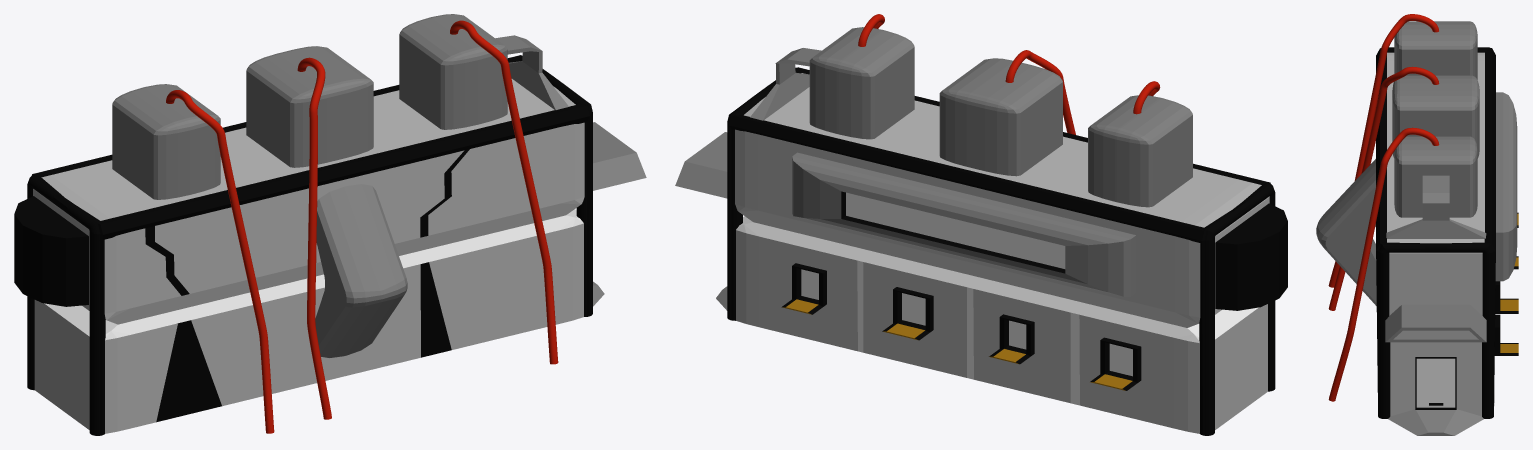
File: Farm_house_fourth_level.fbx
The picture shows the model from 3 angles, left to right: view 1: azimuth 30°, elevation 25°; view 2: azimuth 150°, elevation 25°; view 3: azimuth 270°, elevation 25°; orthographic projection. The views are drawn at different scales.
Parts seen in each view (by area): view 1: Cube; view 2: Cube; view 3: Cube.
Boxes of the visible parts, x1,y1,x2,y2 form: Cube: (14,14,646,435); Cube: (675,14,1287,435); Cube: (1316,14,1518,435).
Size of the model in its own units: 4402 by 2226 by 1587.
